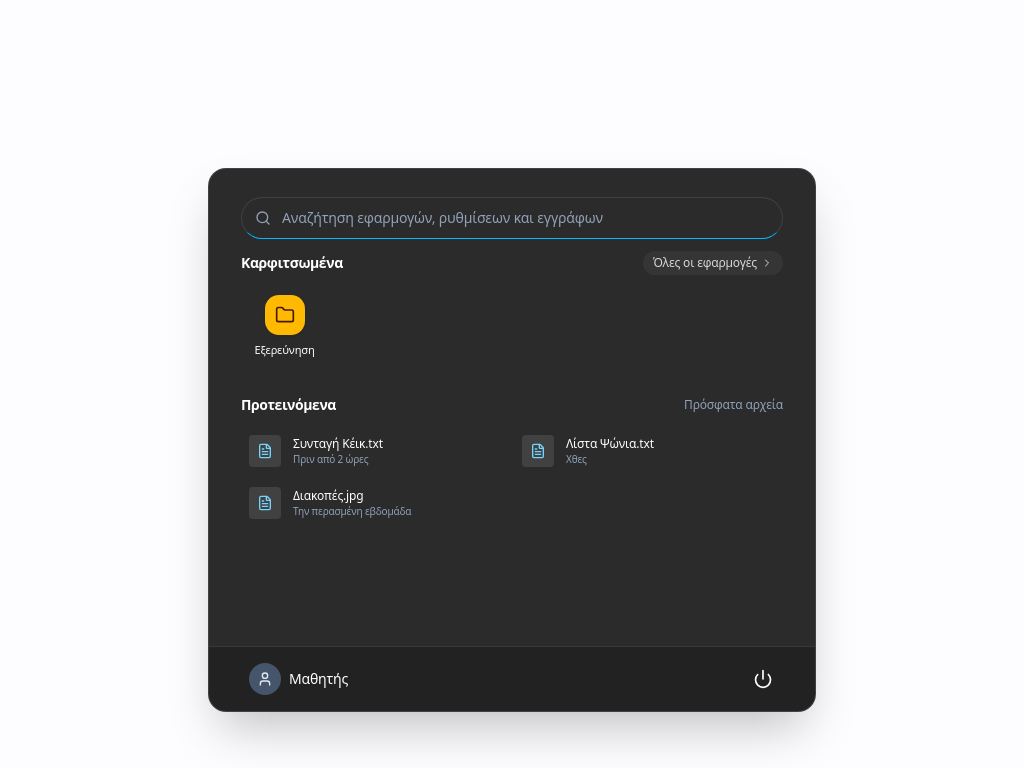
Start menu › power options explain that the practice PC never switches off
Click the button named "Τροφοδοσία" at (763, 679), box [743,659,783,699]
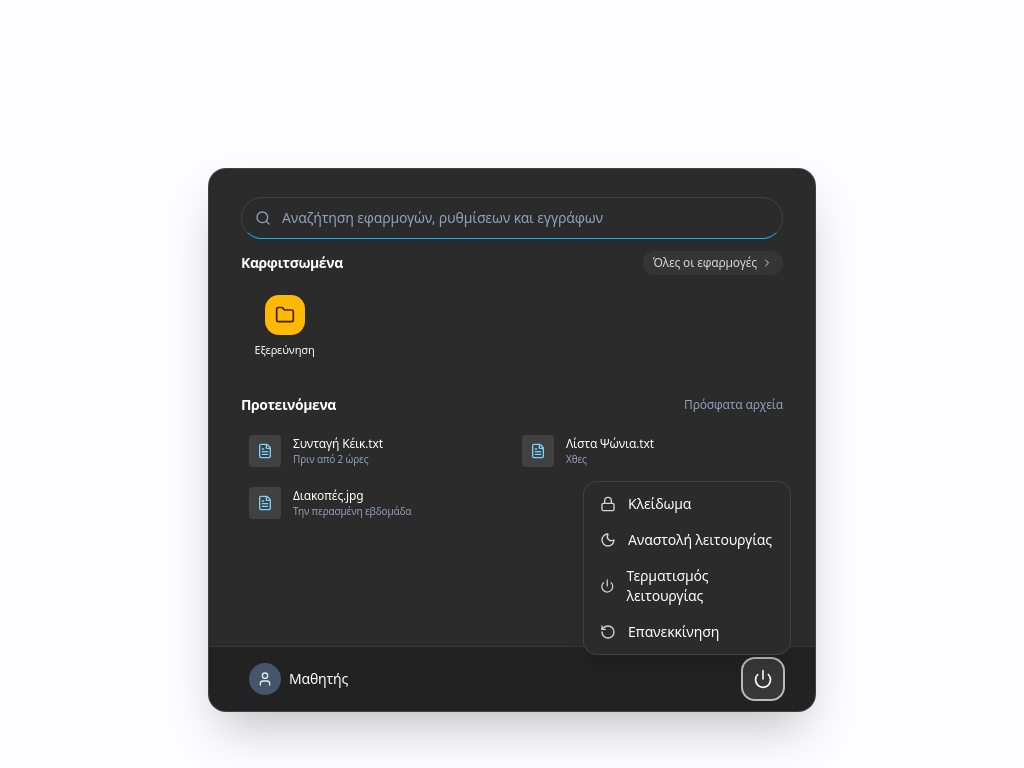
Click the menu item "Τερματισμός λειτουργίας" at (687, 586), box [588,558,786,614]
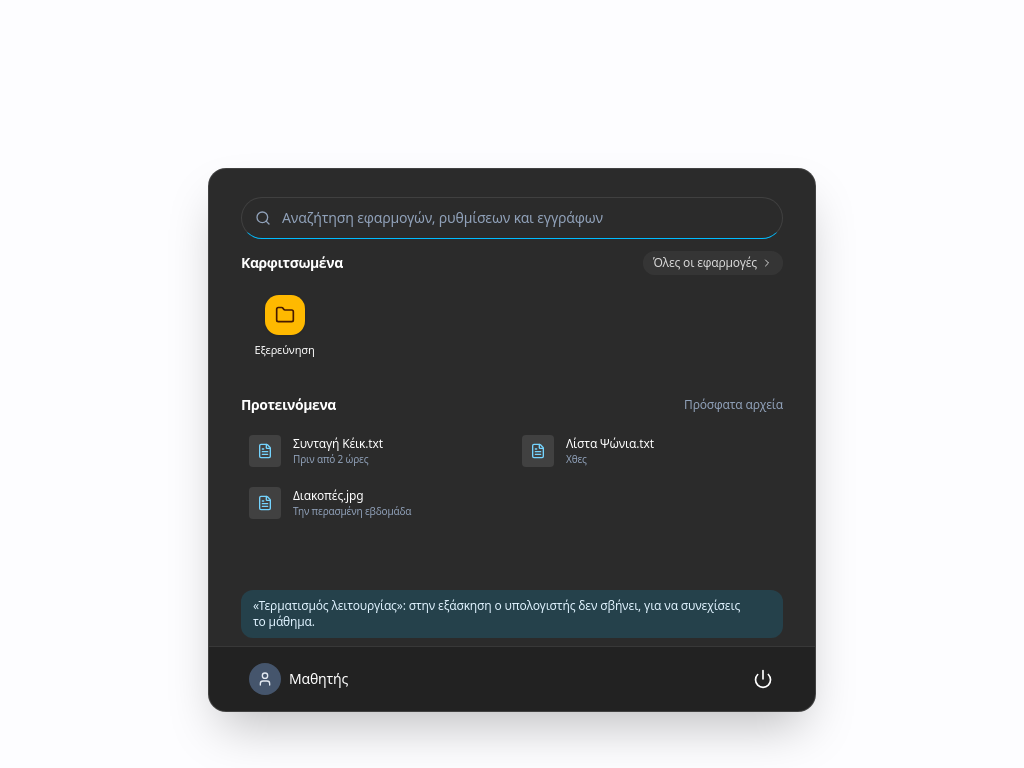
Now the text "δεν σβήνει" is shown, box [253,597,740,630]
